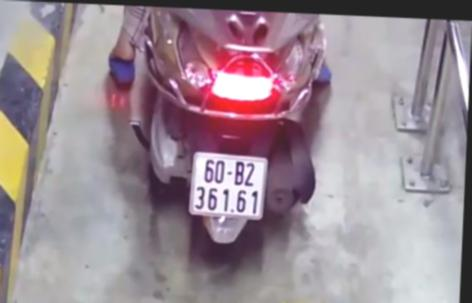License_Plate: (184, 149, 275, 224)
